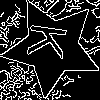K: (27, 22, 77, 61)
